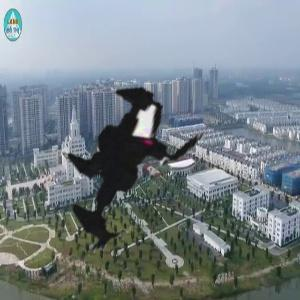drone: (6, 45, 261, 300)
